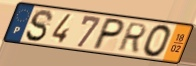4: (50, 13, 74, 45)
7: (76, 14, 103, 49)
O: (142, 23, 173, 58)
P: (89, 17, 127, 52)
R: (115, 21, 149, 54)
S: (24, 8, 55, 43)
